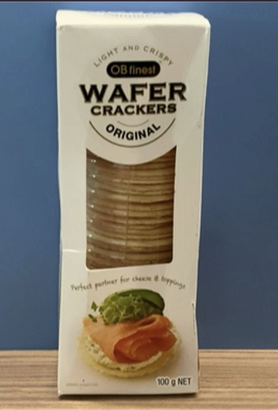crackers_150g: (77, 44, 193, 396)
